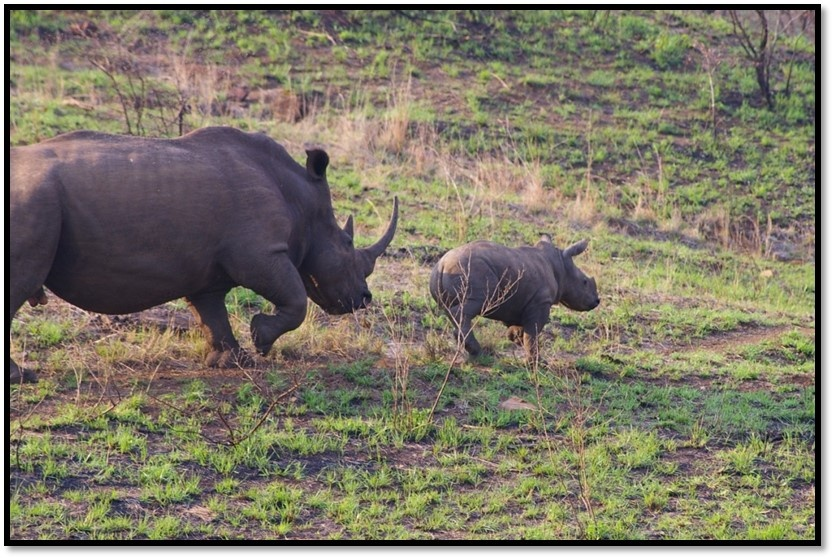rhino: (11, 124, 400, 383), (432, 238, 603, 368)
